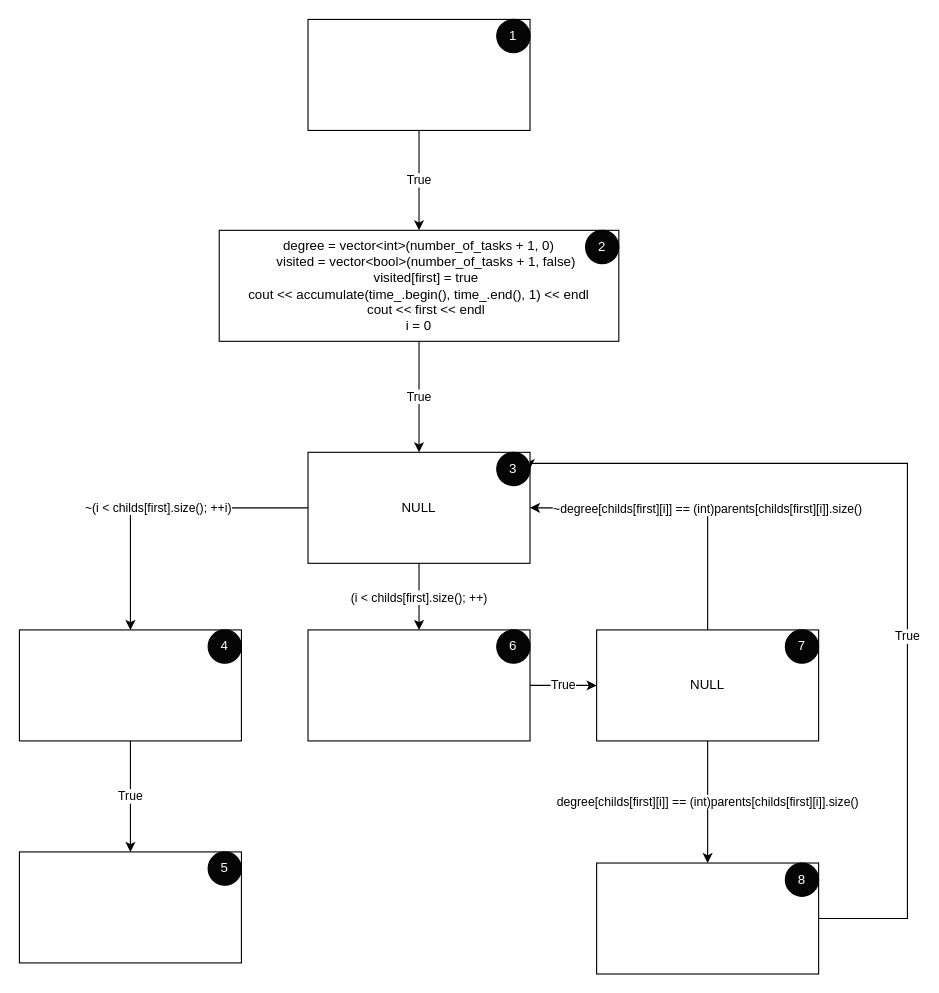
This 939x993 diagram has some shape labels left out. Here are the shapes that lost their labels. From the top down, the box of each, then its label:
(307, 18, 530, 130): Initialize : NULL
(18, 629, 241, 741): print_childs(pq.top())
(307, 629, 530, 741): degree[childs[first][i]]++
(18, 851, 241, 963): return
(596, 862, 819, 974): pq.push(childs[first][i])
